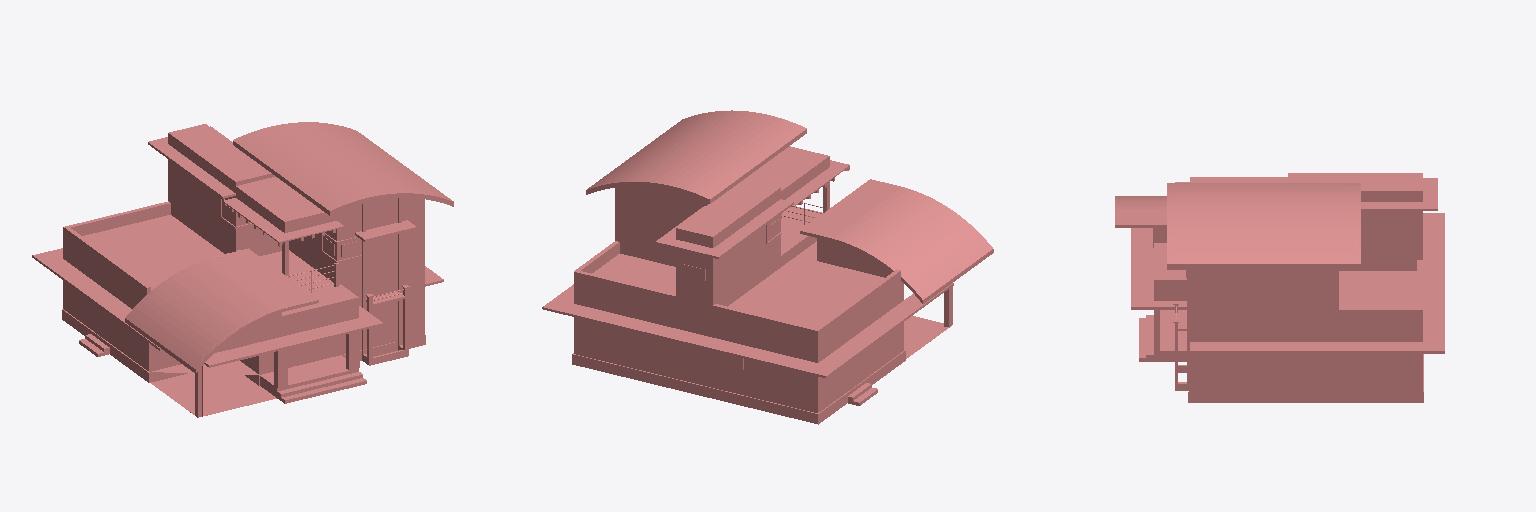
The model's file is houseobj.obj.
The picture shows the model from 3 angles: view 1: azimuth 30°, elevation 25°; view 2: azimuth 150°, elevation 25°; view 3: azimuth 270°, elevation 25°; orthographic projection.
Visible parts, largest first — view 1: Object01, Object02, Object06, Object54, Object03, Object88, Object93, Object78, Object87, Object14, Object76, Object43 (+14 smaller); view 2: Object03, Object06, Object01, Object02, Object54, Object43, Object88, Object97, Object78, Object76, Object87, Object38 (+7 smaller); view 3: Object02, Object03, Object06, Object43, Object38, Object54, Object40, Object88, Object72, Object95, Object01, Object90 (+10 smaller).
Boxes of the visible parts, x1=… form: Object01: x1=132, y1=251, x2=310, y2=361; Object02: x1=243, y1=124, x2=445, y2=206; Object06: x1=168, y1=159, x2=361, y2=285; Object54: x1=82, y1=215, x2=332, y2=290; Object03: x1=63, y1=241, x2=361, y2=374; Object88: x1=168, y1=124, x2=275, y2=192; Object93: x1=151, y1=373, x2=276, y2=415; Object78: x1=63, y1=201, x2=170, y2=297; Object87: x1=236, y1=177, x2=336, y2=230; Object14: x1=402, y1=199, x2=424, y2=348; Object76: x1=125, y1=248, x2=318, y2=373; Object43: x1=32, y1=248, x2=443, y2=350; Object03: x1=574, y1=283, x2=903, y2=412; Object06: x1=615, y1=186, x2=780, y2=318; Object01: x1=807, y1=182, x2=985, y2=292; Object02: x1=595, y1=112, x2=799, y2=193; Object54: x1=592, y1=223, x2=883, y2=327; Object43: x1=542, y1=283, x2=953, y2=378; Object88: x1=676, y1=179, x2=780, y2=247; Object97: x1=573, y1=350, x2=905, y2=424; Object78: x1=713, y1=269, x2=900, y2=344; Object76: x1=800, y1=179, x2=993, y2=303; Object87: x1=745, y1=146, x2=829, y2=199; Object38: x1=586, y1=110, x2=806, y2=203; Object02: x1=1172, y1=184, x2=1355, y2=259; Object03: x1=1190, y1=323, x2=1422, y2=391; Object06: x1=1190, y1=211, x2=1422, y2=322; Object43: x1=1190, y1=213, x2=1444, y2=353; Object38: x1=1167, y1=183, x2=1360, y2=269; Object54: x1=1339, y1=271, x2=1416, y2=306; Object40: x1=1188, y1=392, x2=1423, y2=402; Object88: x1=1288, y1=173, x2=1422, y2=201; Object72: x1=1131, y1=228, x2=1153, y2=300; Object95: x1=1339, y1=307, x2=1422, y2=322; Object01: x1=1120, y1=196, x2=1166, y2=222; Object90: x1=1361, y1=178, x2=1437, y2=210.
Bounding box in the file's own units: 262 × 151 × 262.